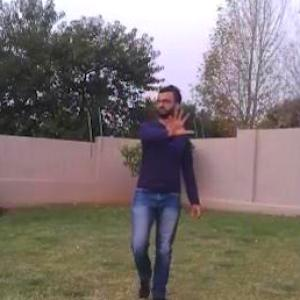follow_hand: (162, 102, 195, 136)
